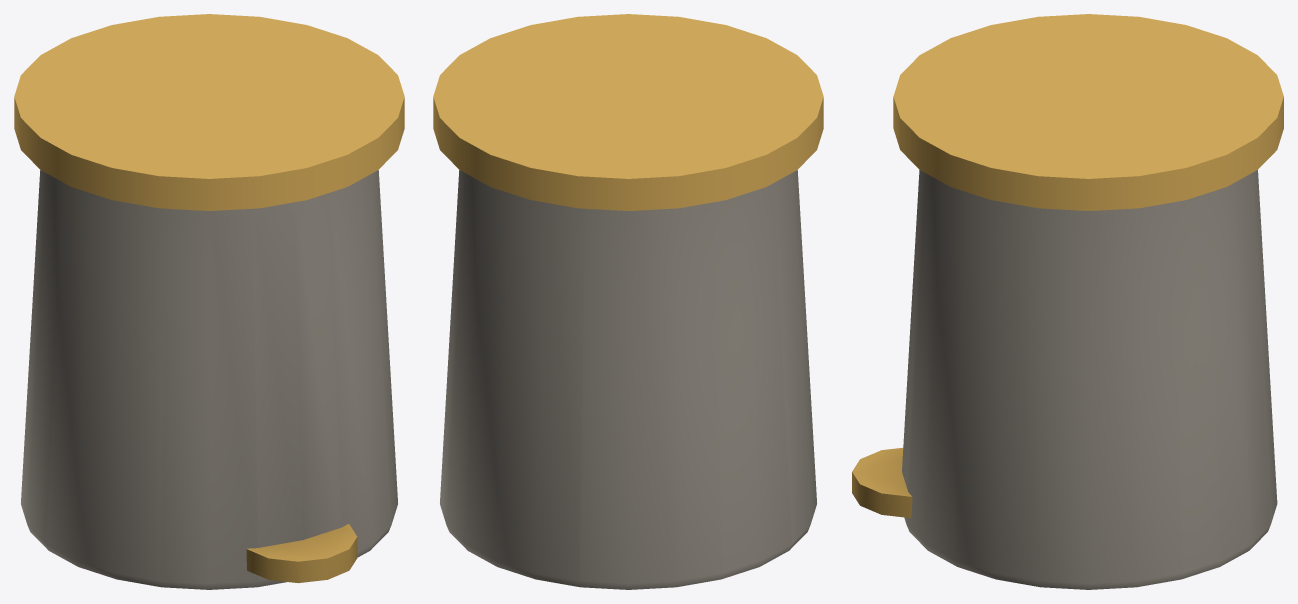
The model's file is bin.glb.
The picture shows the model from 3 angles, left to right: view 1: azimuth 30°, elevation 25°; view 2: azimuth 150°, elevation 25°; view 3: azimuth 270°, elevation 25°; orthographic projection.
Parts seen in each view (by area): view 1: bin; view 2: bin; view 3: bin.
Boxes of the visible parts, box(x1,y1,x2,y2) form: bin: box(14, 14, 404, 589); bin: box(433, 14, 823, 589); bin: box(852, 14, 1283, 589).
Bounding box in the file's own units: 0.33 × 0.39 × 0.365.
